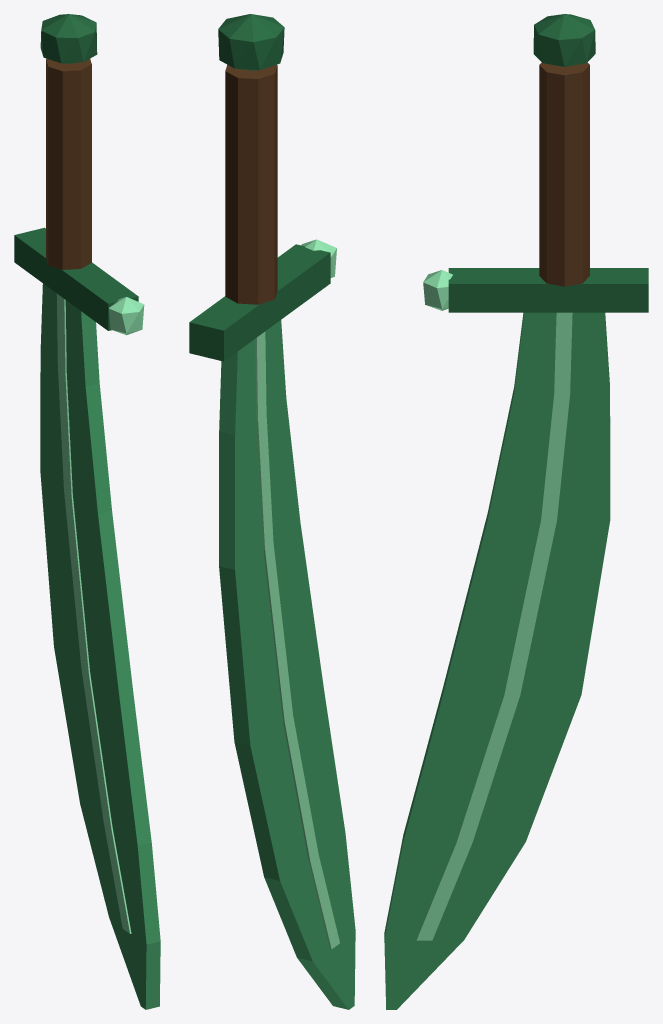
File: held_adamant_scimitar.glb
3 renders of one model, left to right at view 1: azimuth 30°, elevation 25°; view 2: azimuth 150°, elevation 25°; view 3: azimuth 270°, elevation 25°, orthographic. The views are drawn at different scales.
Visible parts, largest first — view 1: held_adamant_scimitar; view 2: held_adamant_scimitar; view 3: held_adamant_scimitar.
Part boxes in pixels (bbox=[...]): held_adamant_scimitar: bbox=[14, 14, 160, 1009]; held_adamant_scimitar: bbox=[189, 14, 355, 1009]; held_adamant_scimitar: bbox=[384, 14, 648, 1009].
Bounding box in the file's own units: 0.0468 × 0.822 × 0.1983.
